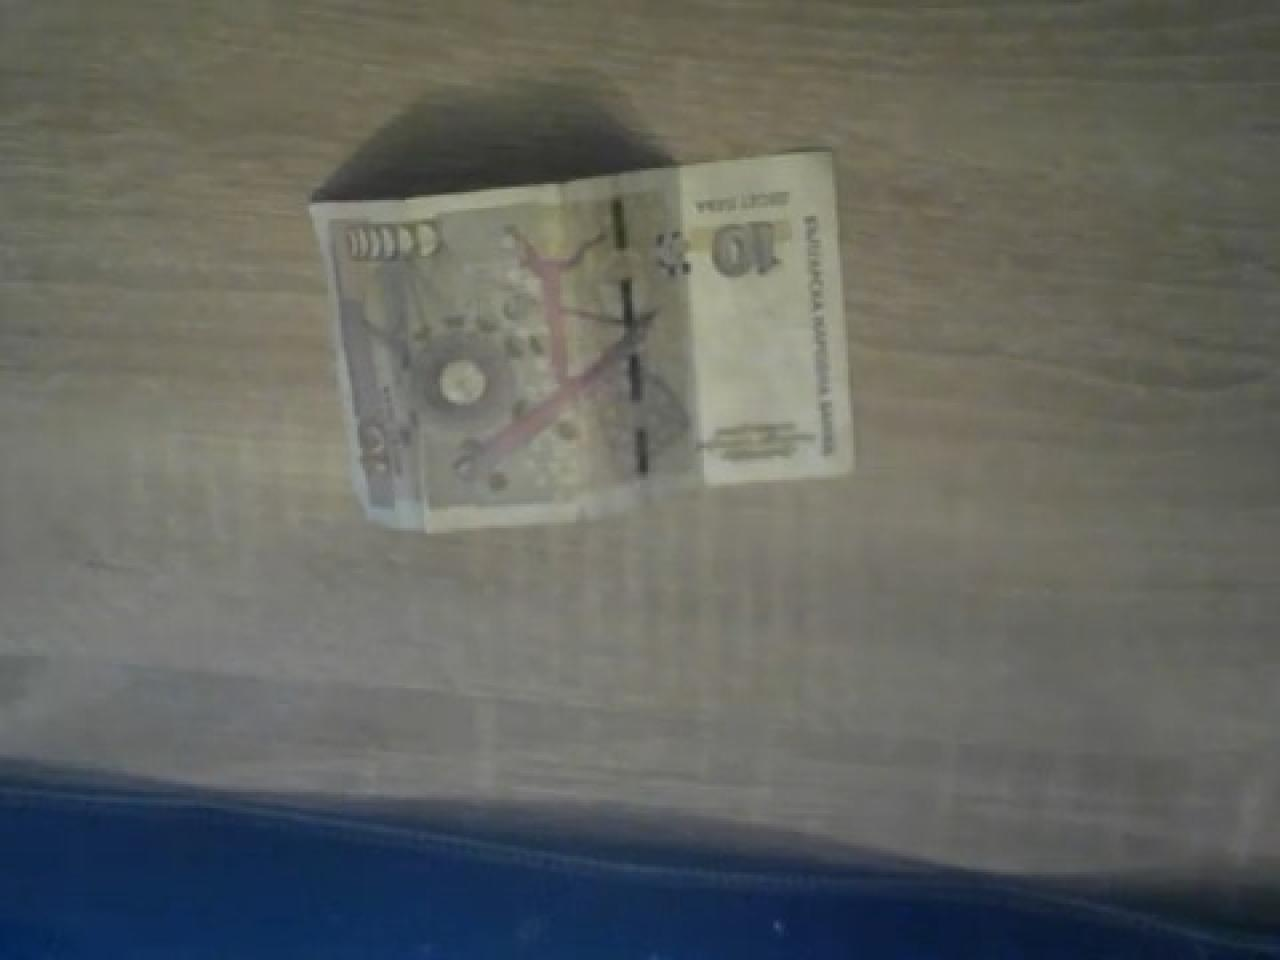10leva: (306, 144, 854, 530)
